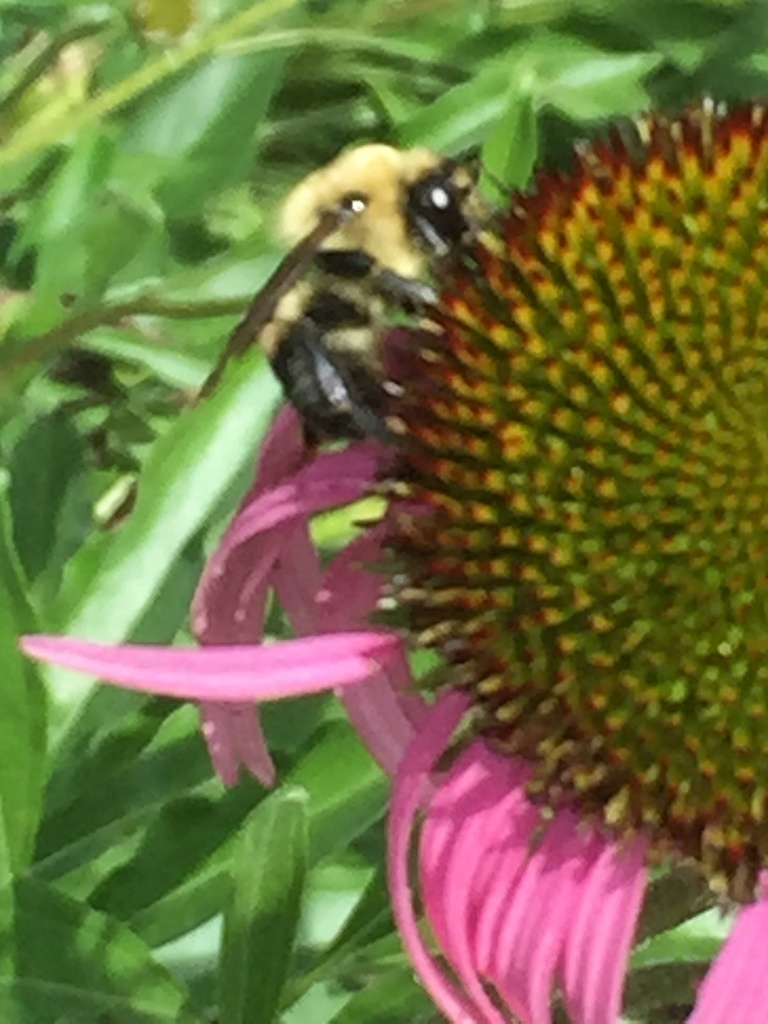bumblebee: (192, 138, 493, 450)
